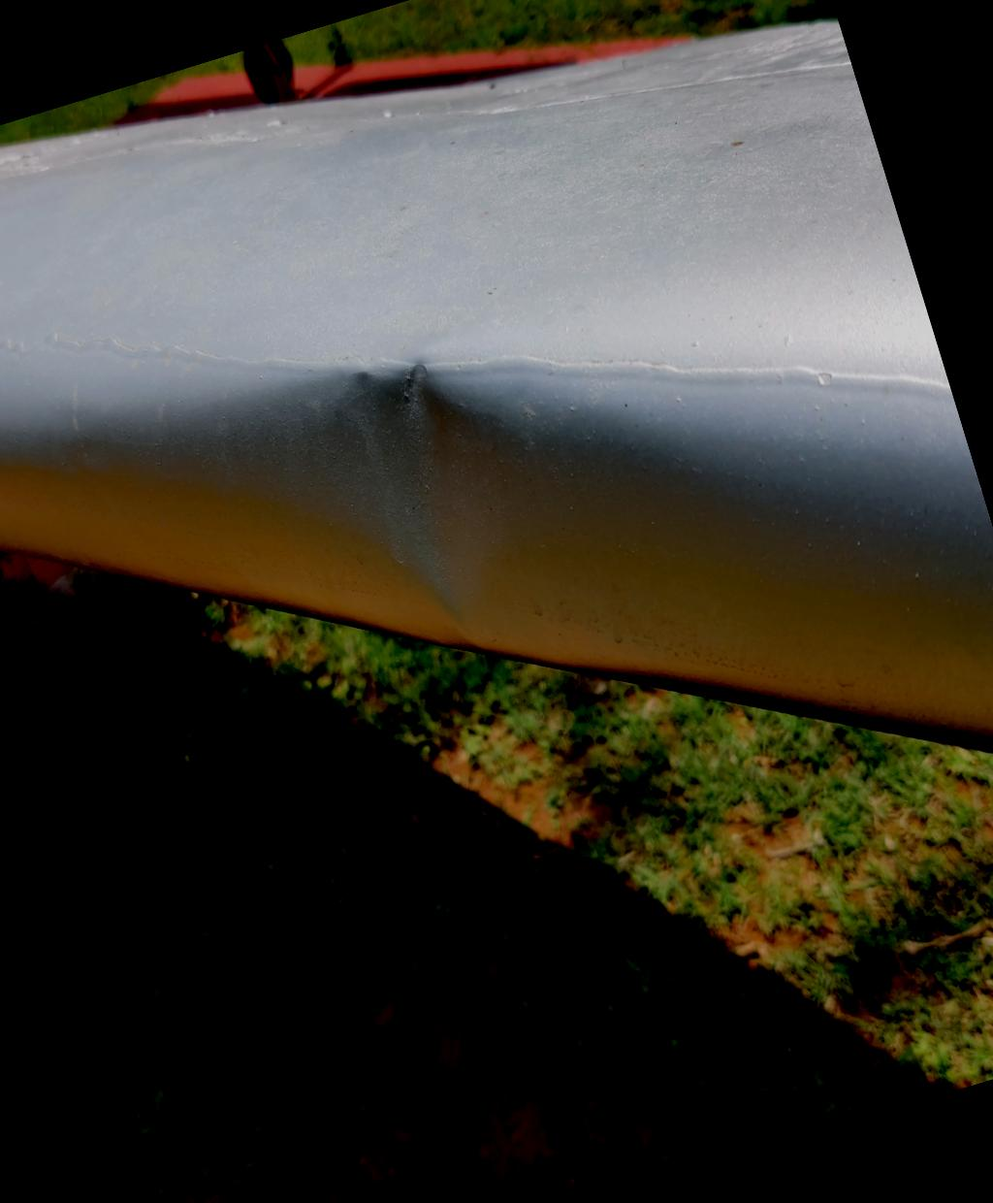dent: (277, 297, 569, 674)
